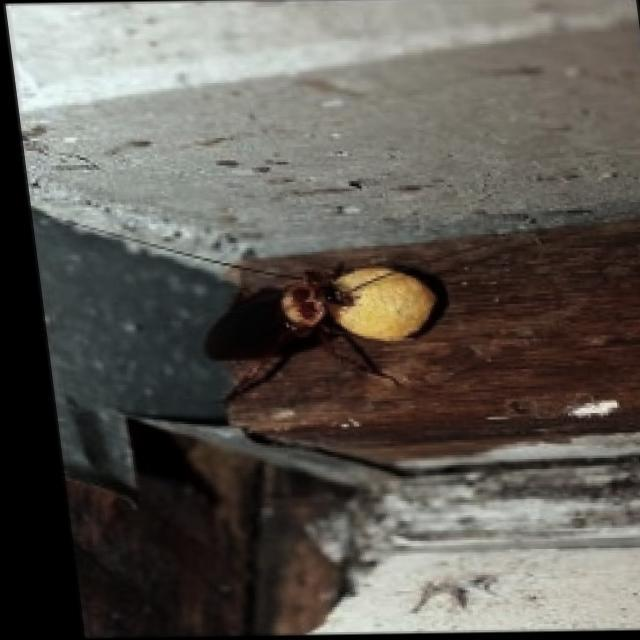cockroach: (197, 245, 392, 394)
